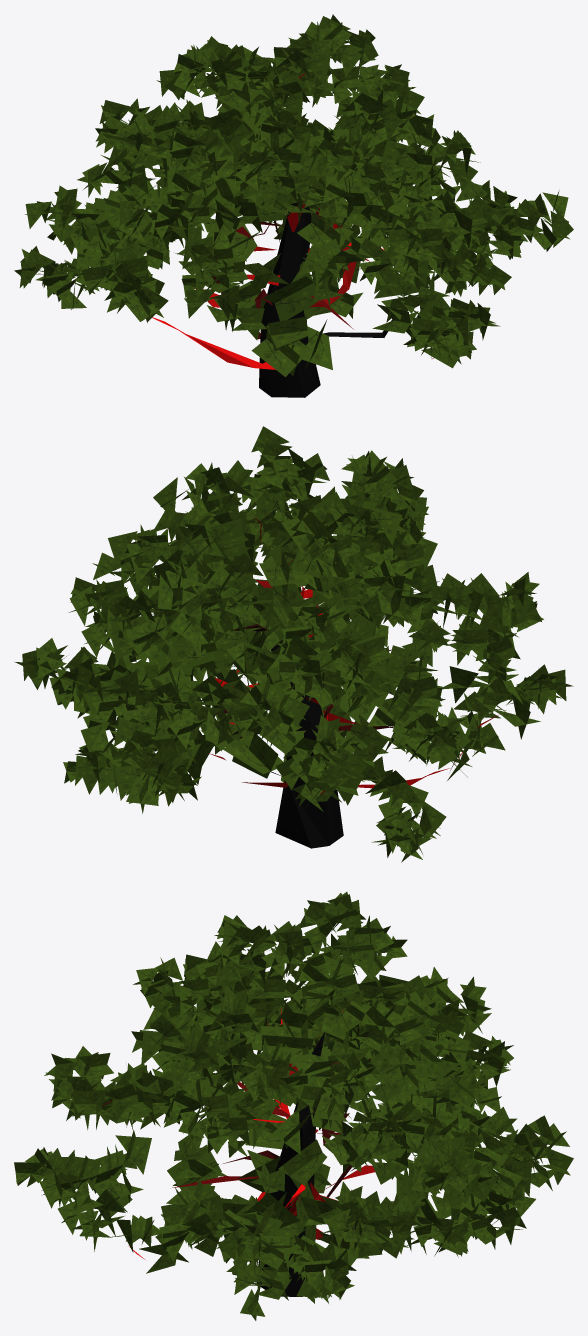
File: oak6 lod3.FBX
3 renders of one model, top to bottom at view 1: azimuth 30°, elevation 25°; view 2: azimuth 150°, elevation 25°; view 3: azimuth 270°, elevation 25°, orthographic. The views are drawn at different scales.
Visible parts, largest first — view 1: oak6_LOD3; view 2: oak6_LOD3; view 3: oak6_LOD3.
Boxes of the visible parts, x1,y1,x2,y2 form: oak6_LOD3: [14, 14, 573, 397]; oak6_LOD3: [14, 426, 573, 862]; oak6_LOD3: [14, 892, 573, 1320].
Bounding box in the file's own units: 202608 × 151816 × 205477.
